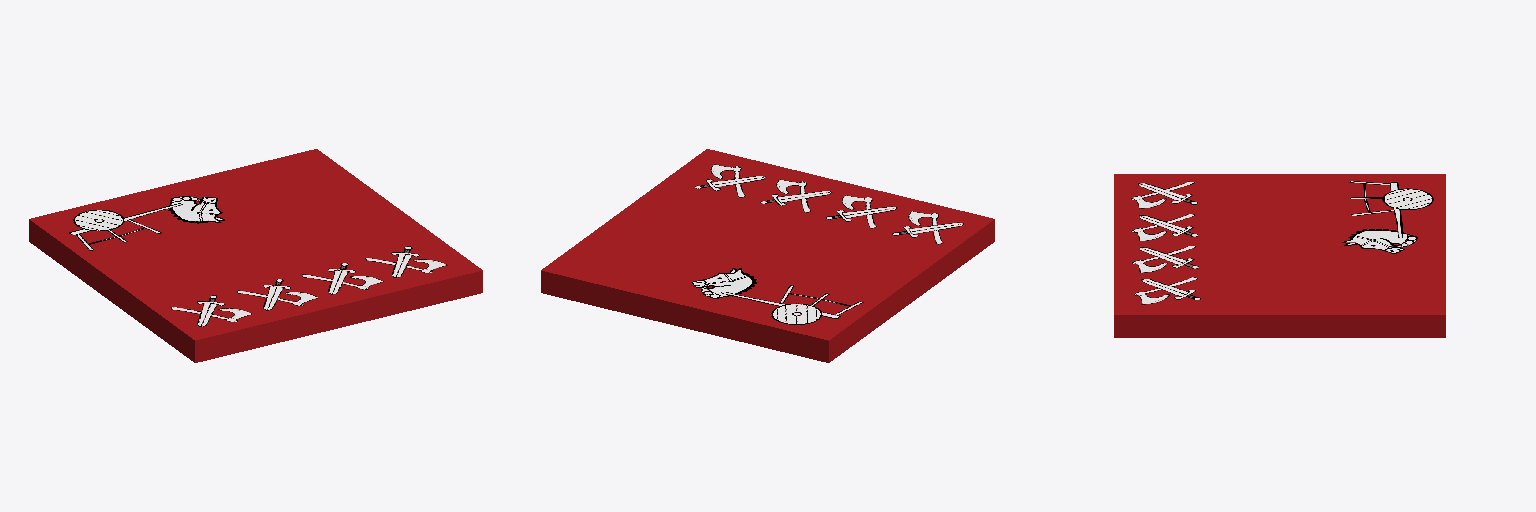
3 renders of one model, left to right at view 1: azimuth 30°, elevation 25°; view 2: azimuth 150°, elevation 25°; view 3: azimuth 270°, elevation 25°, orthographic.
Visible parts, largest first — view 1: Box001.008; view 2: Box001.008; view 3: Box001.008.
Part boxes in pixels (left/top/right/bottom): Box001.008: left=29, top=149, right=482, bottom=362; Box001.008: left=541, top=149, right=994, bottom=362; Box001.008: left=1114, top=174, right=1445, bottom=337.
Bounding box in the file's own units: 1.57 × 0.1181 × 1.57.
1 materials, 1 textured.